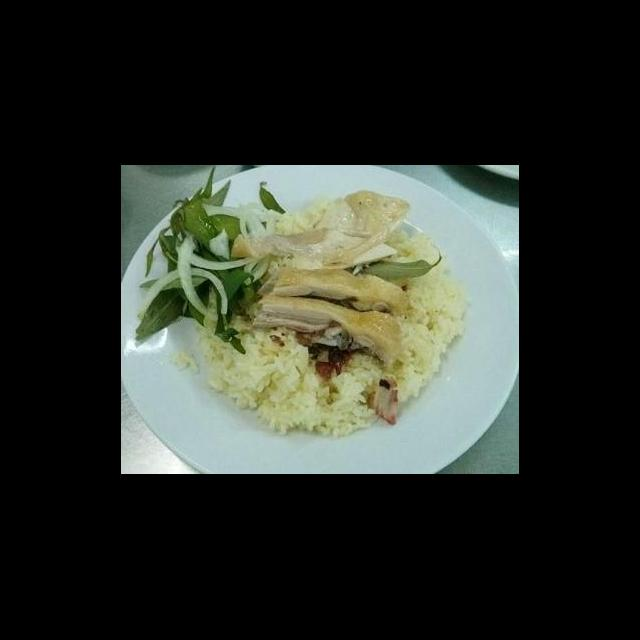com: (191, 314, 381, 439), (384, 269, 468, 406), (382, 226, 448, 274)
com ga: (125, 198, 474, 474)
rau ram: (134, 166, 270, 356), (338, 243, 444, 284), (254, 178, 290, 218)
thit ga: (244, 269, 409, 372), (229, 187, 413, 276)
